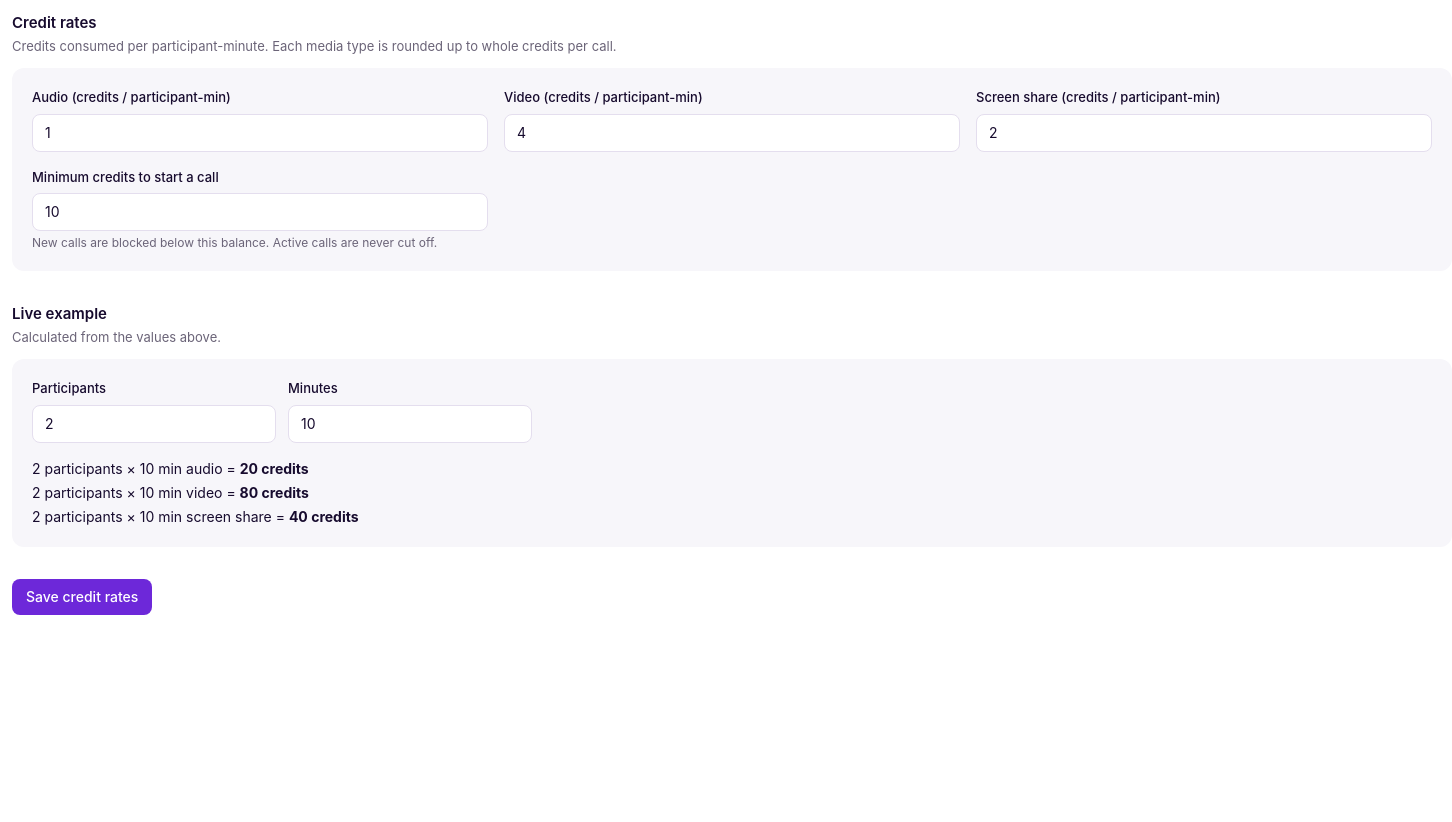
Credit rates › computes the live example from the form values
This screenshot has width=1452, height=822.
Expected: the list with test id "credit-example" shows "2 participants × 10 min video = 80 credits", x1=32 y1=460 x2=359 y2=524
Replace the text in the number field labelled "Video (credits / participant-min)" with "5": (732, 132) x1=504 y1=114 x2=960 y2=152
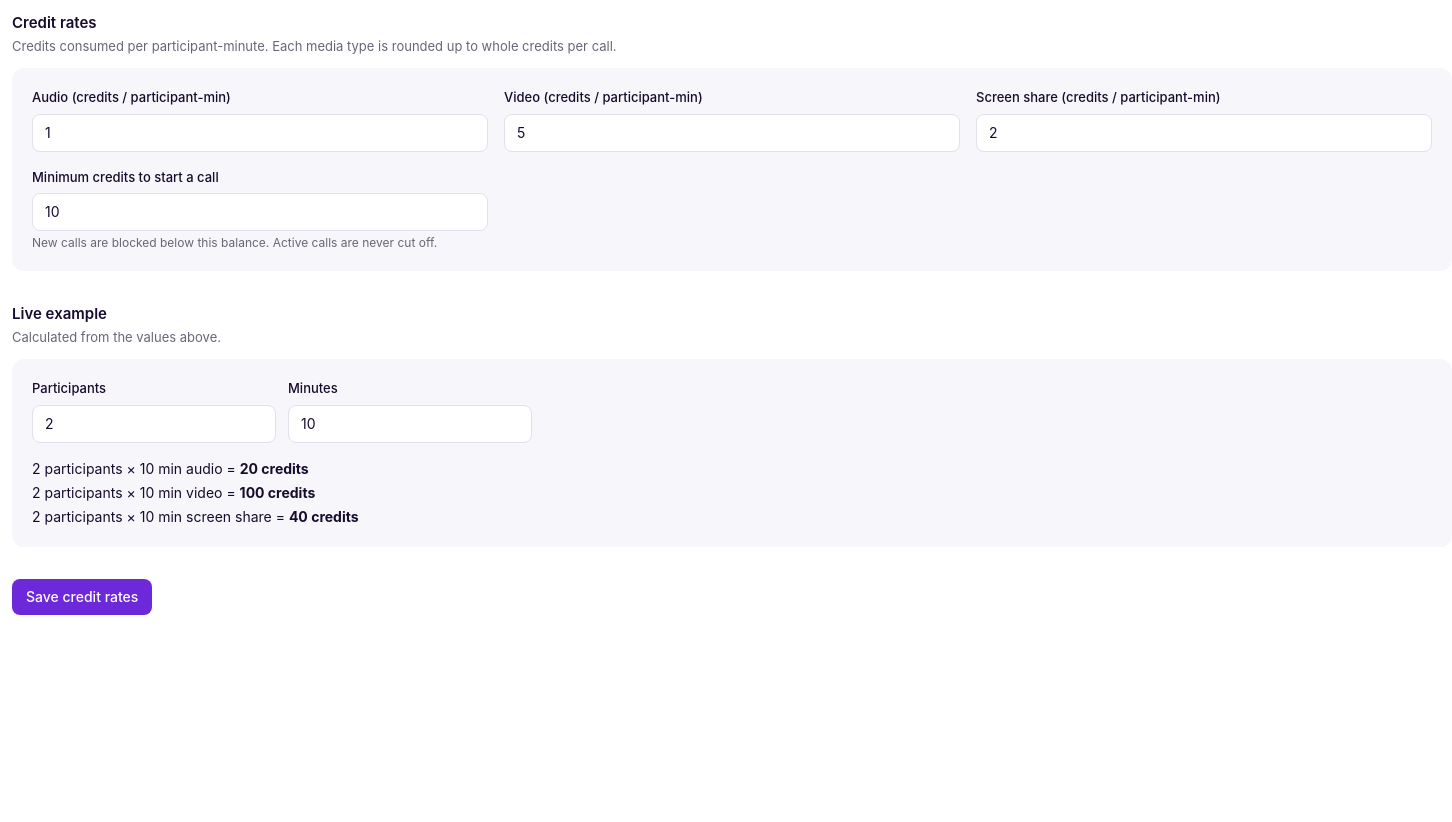
Now the list with test id "credit-example" shows "2 participants × 10 min video = 100 credits", box x1=32 y1=460 x2=359 y2=524
